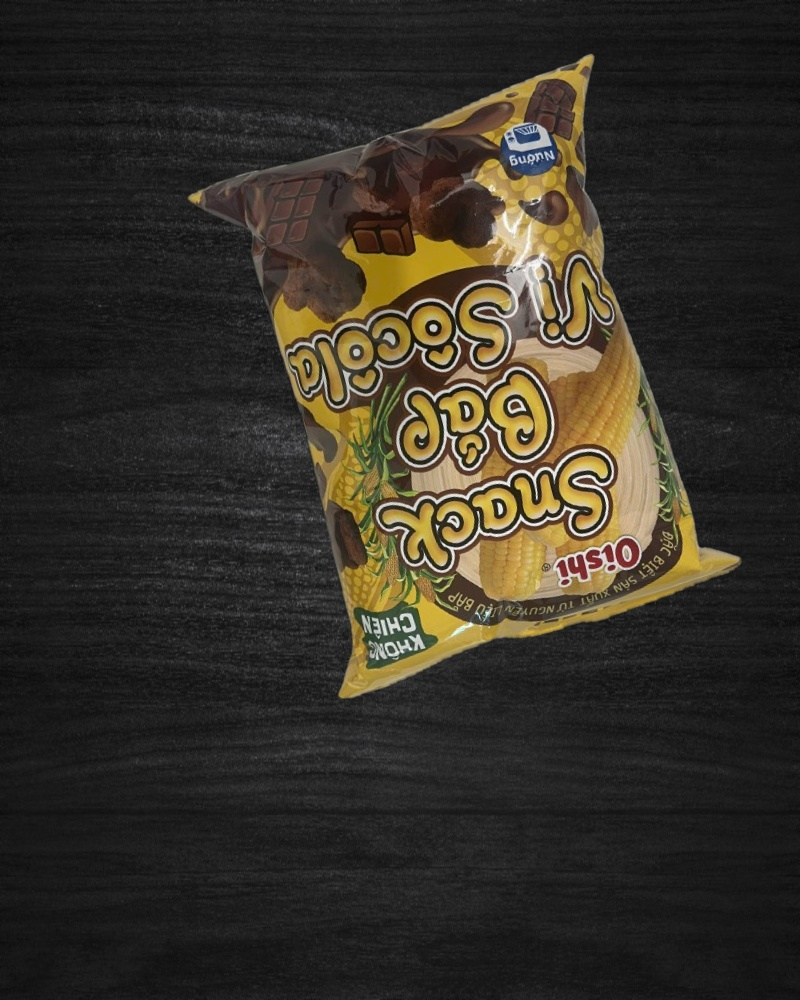Snack socola: (181, 53, 750, 704)
